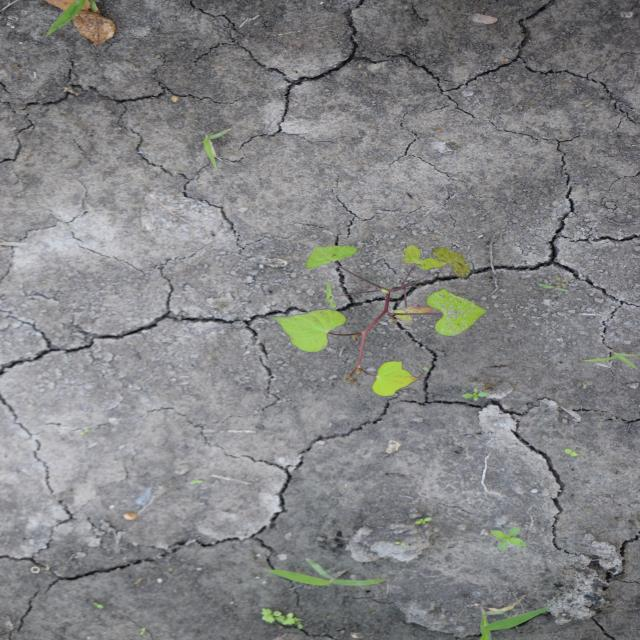MorningGlory: (271, 244, 489, 399)
